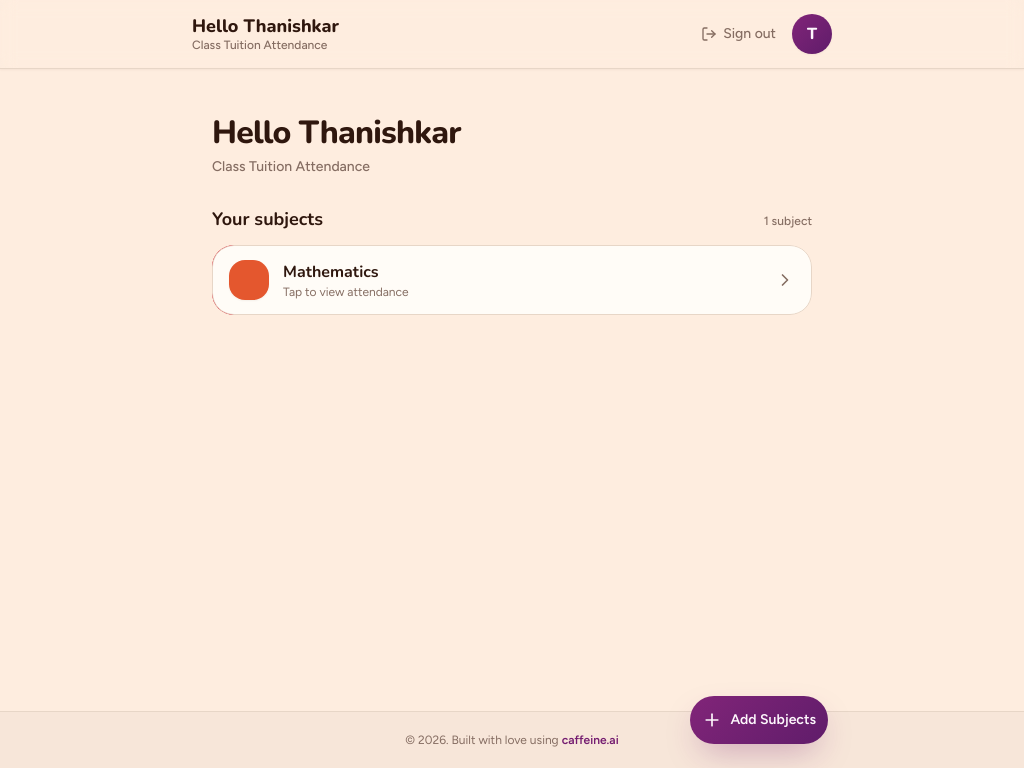
Test: characterization: subject page recorded-dates summary › counts the subject's recorded dates in the section header
The width and height of the screenshot is (1024, 768).
Click the link "Mathematics Tap to view attendance".
click(249, 280)  # box [212, 245, 812, 315]
(page scrolled)
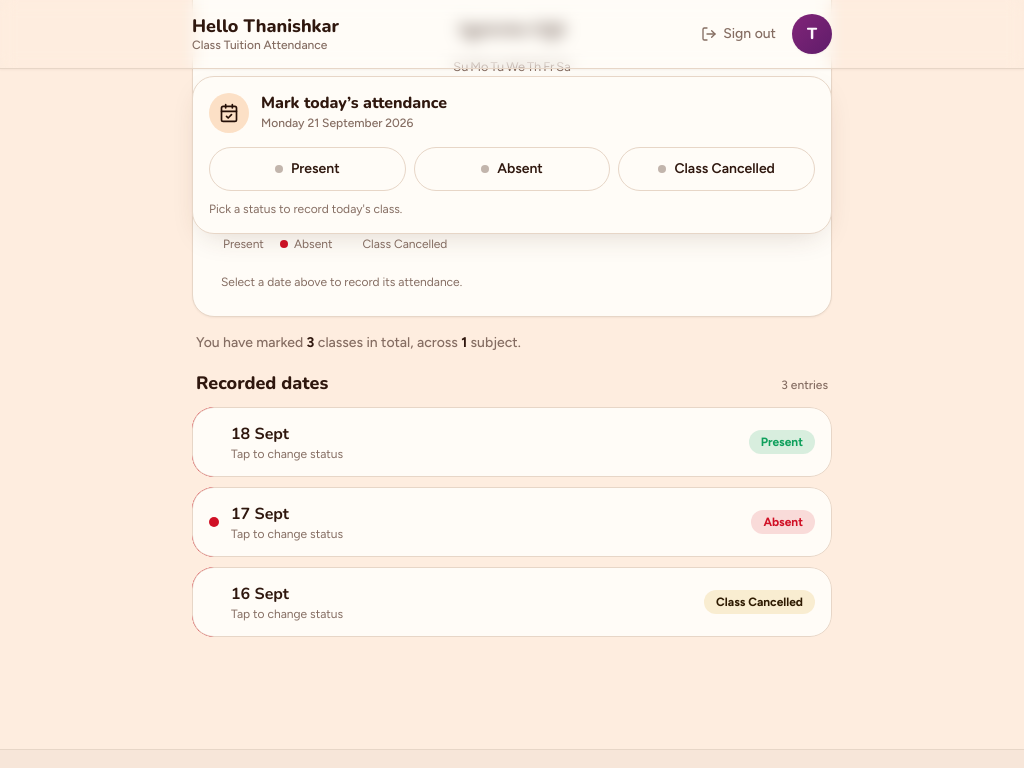
Expected: the heading "Recorded dates" is shown, [196, 368, 328, 396]
Expected: the text "3 entries" is shown, [781, 376, 828, 392]
